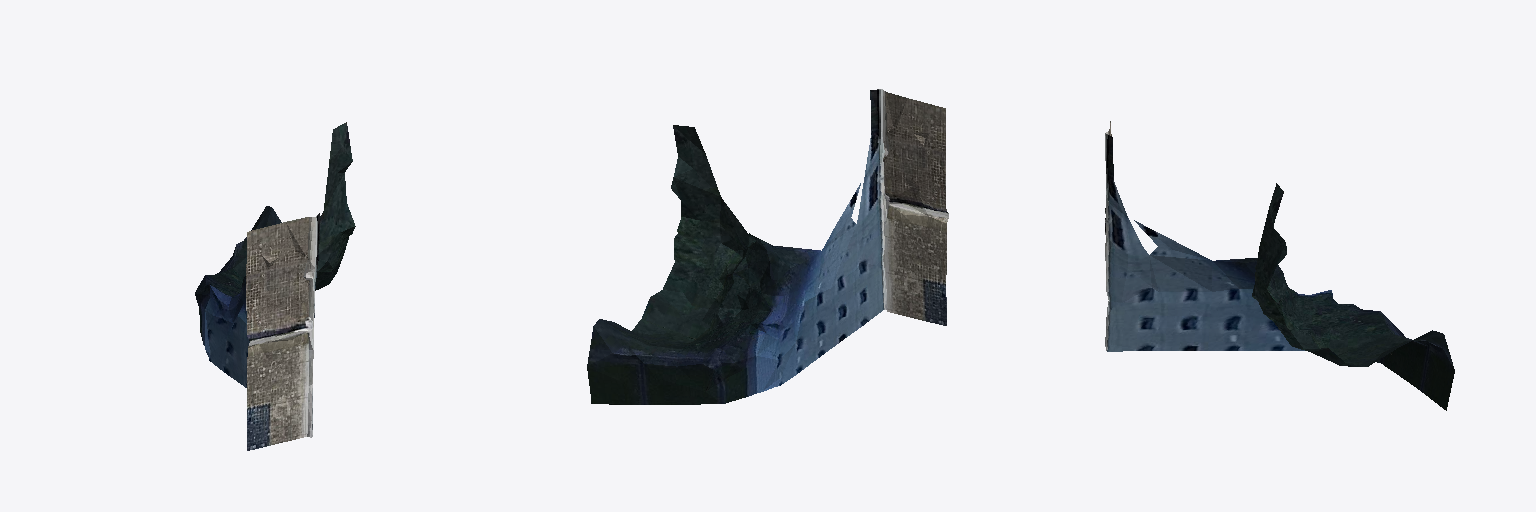
3 renders of one model, left to right at view 1: azimuth 30°, elevation 25°; view 2: azimuth 150°, elevation 25°; view 3: azimuth 270°, elevation 25°, orthographic.
Parts seen in each view (by area): view 1: obj_0; view 2: obj_0; view 3: obj_0.
Part boxes in pixels (bbox=[...]): obj_0: bbox=[195, 122, 355, 450]; obj_0: bbox=[587, 89, 948, 404]; obj_0: bbox=[1105, 121, 1454, 410].
Size of the model in its own units: 20.09 by 22.53 by 32.5.
Materials: 1 (1 with a texture image).